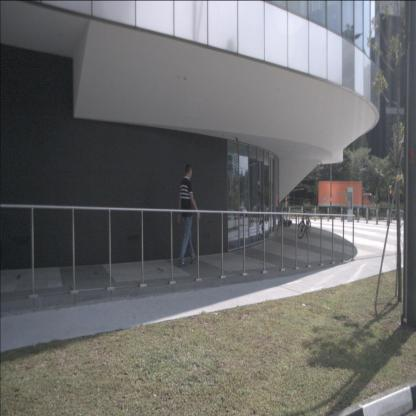human-pedestrian-adult: (177, 164, 201, 267)
vehicle-bicycle: (297, 212, 311, 239), (258, 211, 267, 236)
vehicle-car: (239, 206, 247, 216)
vehicle-truck: (318, 180, 376, 218)
